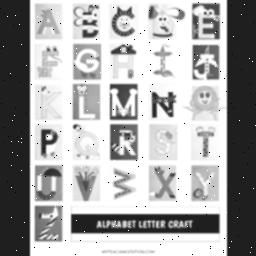a: (32, 5, 64, 37)
k: (36, 84, 62, 122)
